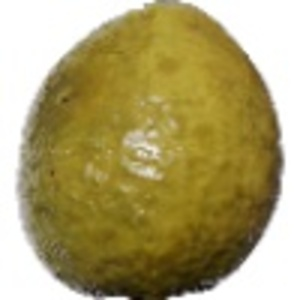goiaba: (11, 2, 288, 295)
